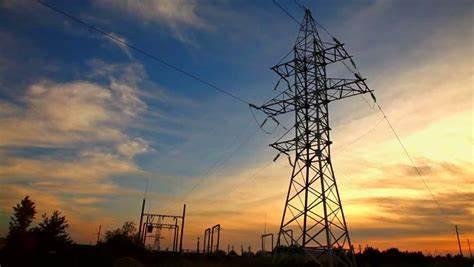power_tower: (244, 8, 376, 267)
